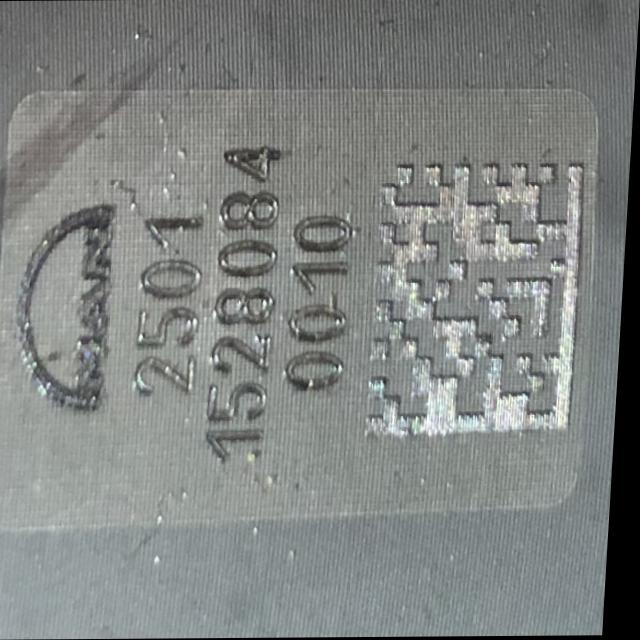dmc: (370, 165, 586, 437)
